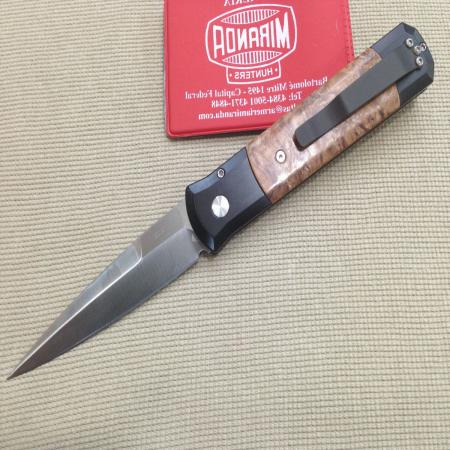long weapon: (4, 183, 232, 384)
